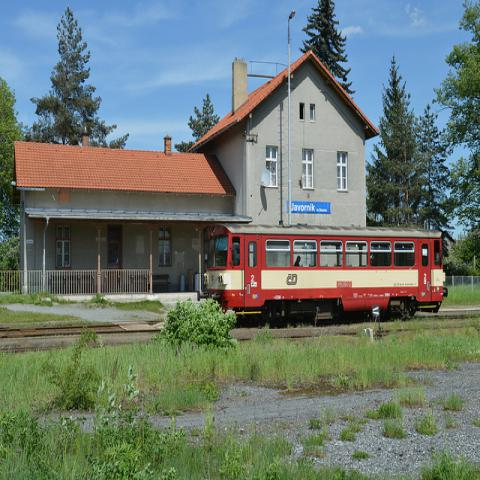bus: (204, 221, 448, 320)
